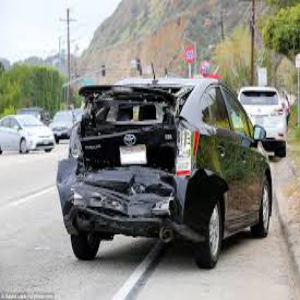bumper: (67, 178, 175, 236)
